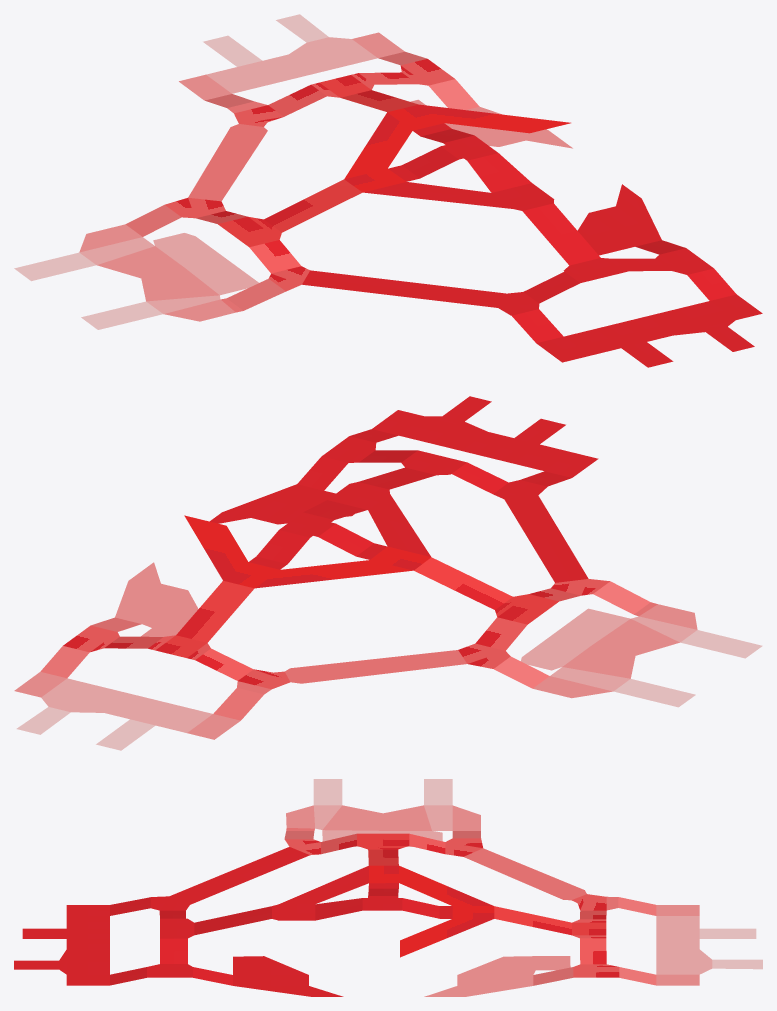
The model's file is Navi_CO.FBX.
3 views of the same model, one above another, from view 1: azimuth 30°, elevation 25°; view 2: azimuth 150°, elevation 25°; view 3: azimuth 270°, elevation 25° (orthographic). The views are drawn at different scales.
Visible parts, largest first — view 1: Plane001; view 2: Plane001; view 3: Plane001.
Boxes of the visible parts, x1,y1,x2,y2 form: Plane001: (14,14,762,367); Plane001: (14,396,762,750); Plane001: (14,779,762,996).
Size of the model in its own units: 7215 by 639 by 10471.
